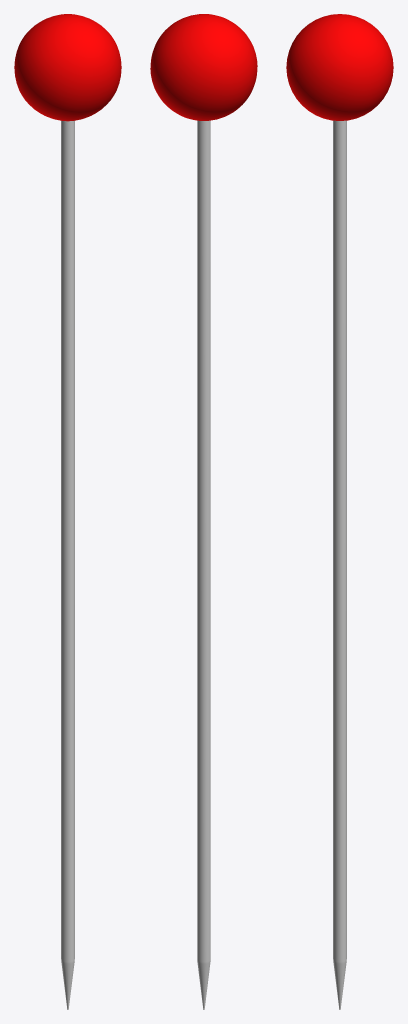
File: pin.glb
The picture shows the model from 3 angles, left to right: view 1: azimuth 90°, elevation 25°; view 2: azimuth 210°, elevation 25°; view 3: azimuth 270°, elevation 25°; orthographic projection.
Visible parts, largest first — view 1: Pin; view 2: Pin; view 3: Pin.
Boxes of the visible parts, x1=… form: Pin: x1=14, y1=14, x2=121, y2=1009; Pin: x1=150, y1=14, x2=257, y2=1009; Pin: x1=286, y1=14, x2=393, y2=1009.
Size of the model in its own units: 0.00392 by 0.04 by 0.00392.
